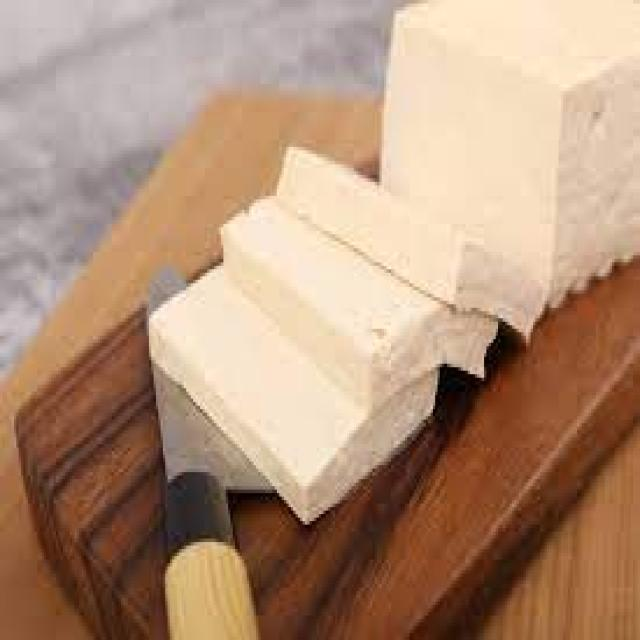tofu: (130, 136, 554, 551), (319, 0, 638, 374)
